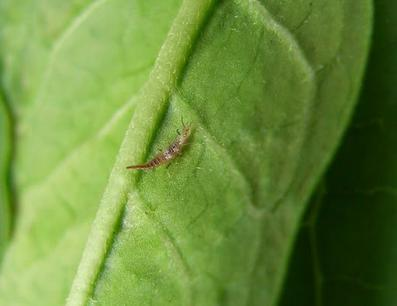tiny_pests: (114, 108, 216, 197)
